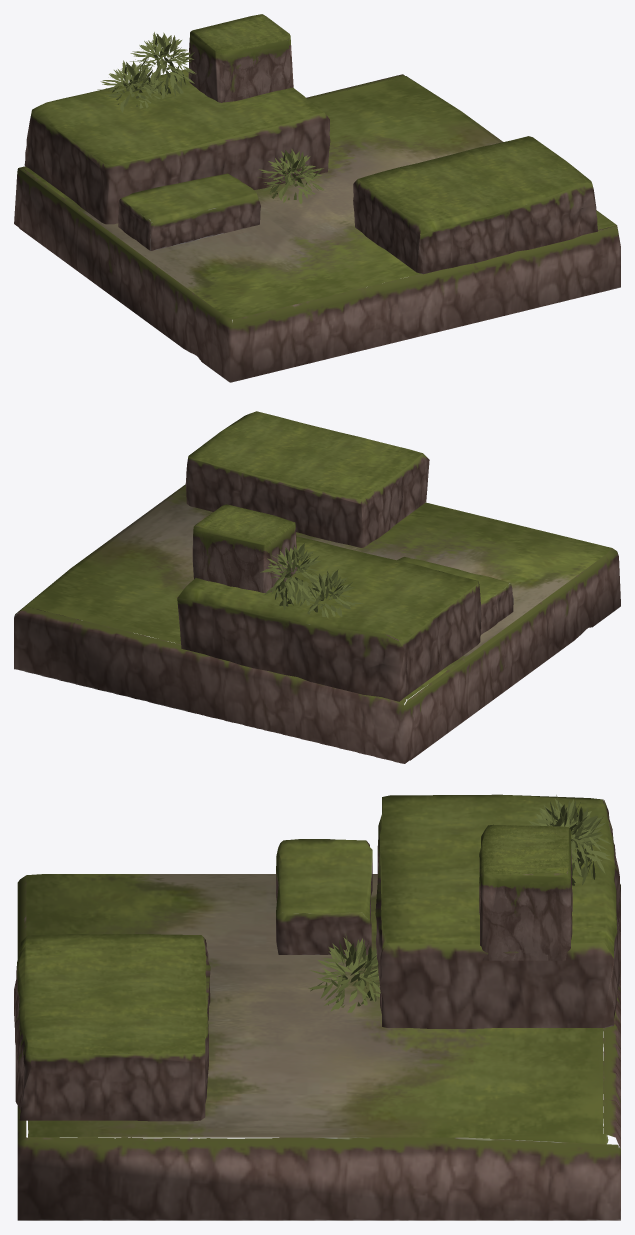
Rendered from rock.fbx.
3 views of the same model, one above another, from view 1: azimuth 30°, elevation 25°; view 2: azimuth 150°, elevation 25°; view 3: azimuth 270°, elevation 25° (orthographic). The views are drawn at different scales.
Parts seen in each view (by area): view 1: Cube.005, Cube.004, Cube.007, Cube.003, Cube.006, leaves.001, leaves.003, leaves.002; view 2: Cube.005, Cube.004, Cube.007, Cube.006, leaves.001, Cube.003, leaves.002; view 3: Cube.005, Cube.004, Cube.007, Cube.006, Cube.003, leaves.003, leaves.001.
Part boxes in pixels (bbox=[...]): Cube.005: bbox=[14, 74, 620, 382]; Cube.004: bbox=[24, 69, 330, 224]; Cube.007: bbox=[353, 136, 597, 274]; Cube.003: bbox=[118, 173, 260, 250]; Cube.006: bbox=[188, 14, 293, 102]; leaves.001: bbox=[130, 32, 196, 98]; leaves.003: bbox=[257, 149, 323, 203]; leaves.002: bbox=[97, 60, 165, 112]; Cube.005: bbox=[14, 484, 620, 763]; Cube.004: bbox=[177, 536, 481, 701]; Cube.007: bbox=[185, 411, 429, 547]; Cube.006: bbox=[192, 504, 297, 592]; leaves.001: bbox=[260, 543, 326, 610]; Cube.003: bbox=[397, 557, 513, 634]; leaves.002: bbox=[300, 569, 363, 618]; Cube.005: bbox=[17, 874, 620, 1220]; Cube.004: bbox=[375, 794, 620, 1028]; Cube.007: bbox=[14, 934, 210, 1121]; Cube.006: bbox=[479, 824, 572, 960]; Cube.003: bbox=[276, 839, 372, 955]; leaves.003: bbox=[308, 934, 380, 1012]; leaves.001: bbox=[528, 795, 611, 885].
Size of the model in its own units: 599 by 257 by 577.
